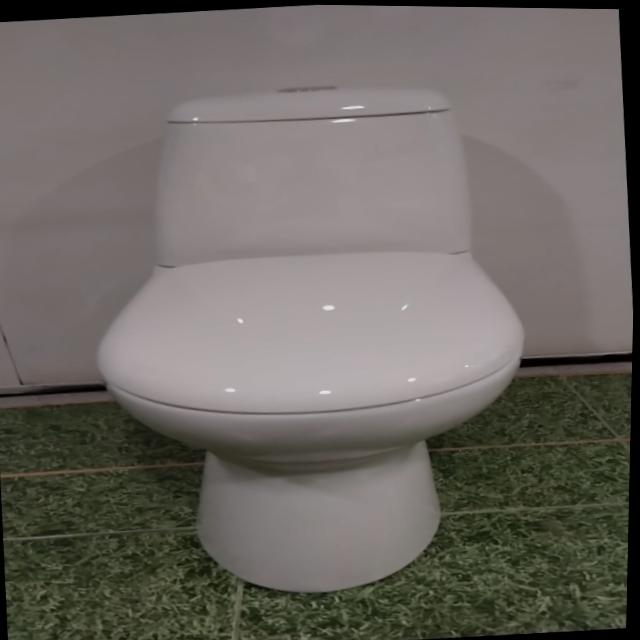toilet: (74, 68, 548, 608)
